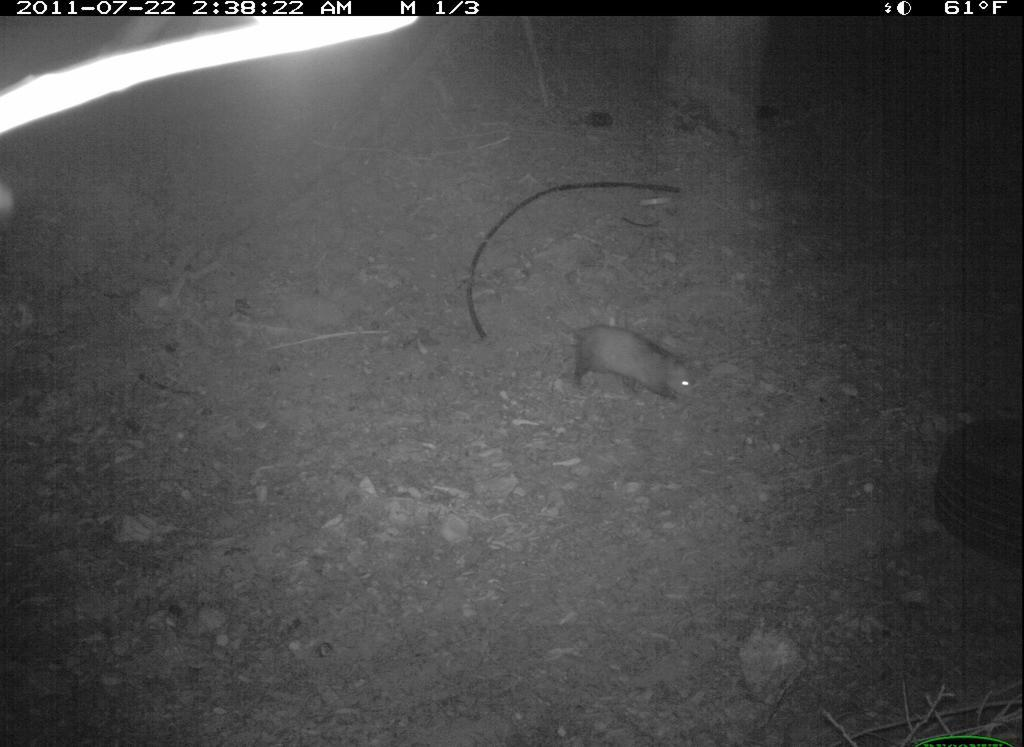opossum: (533, 302, 709, 414)
